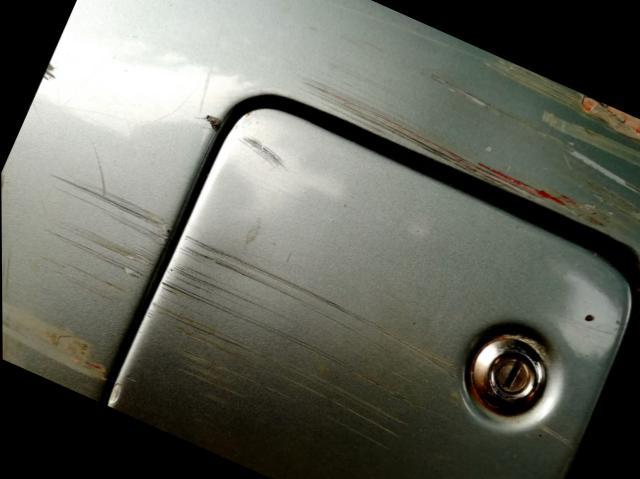rub: (268, 25, 640, 255), (143, 234, 457, 446), (1, 146, 170, 405)
